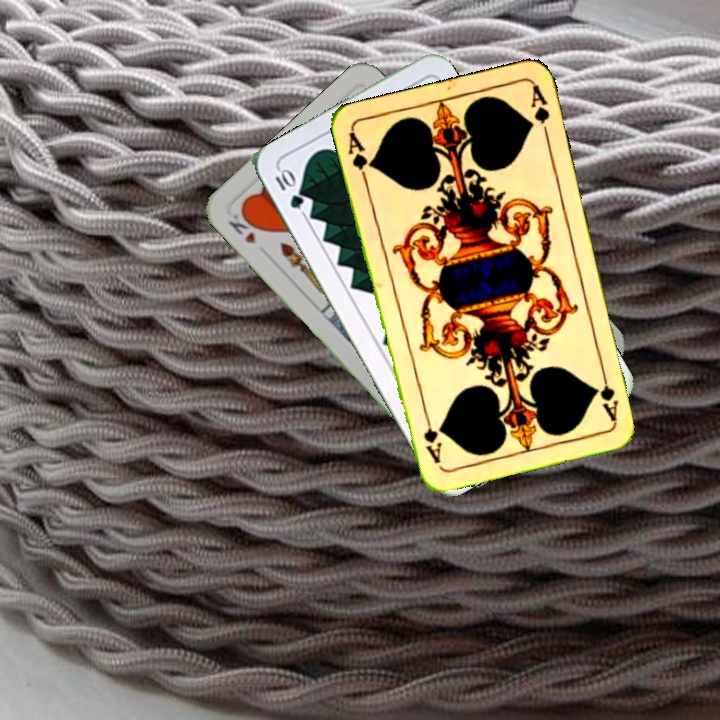G10: (271, 164, 307, 212)
GA: (344, 128, 376, 186), (594, 365, 621, 424)
HK: (224, 204, 263, 247)
